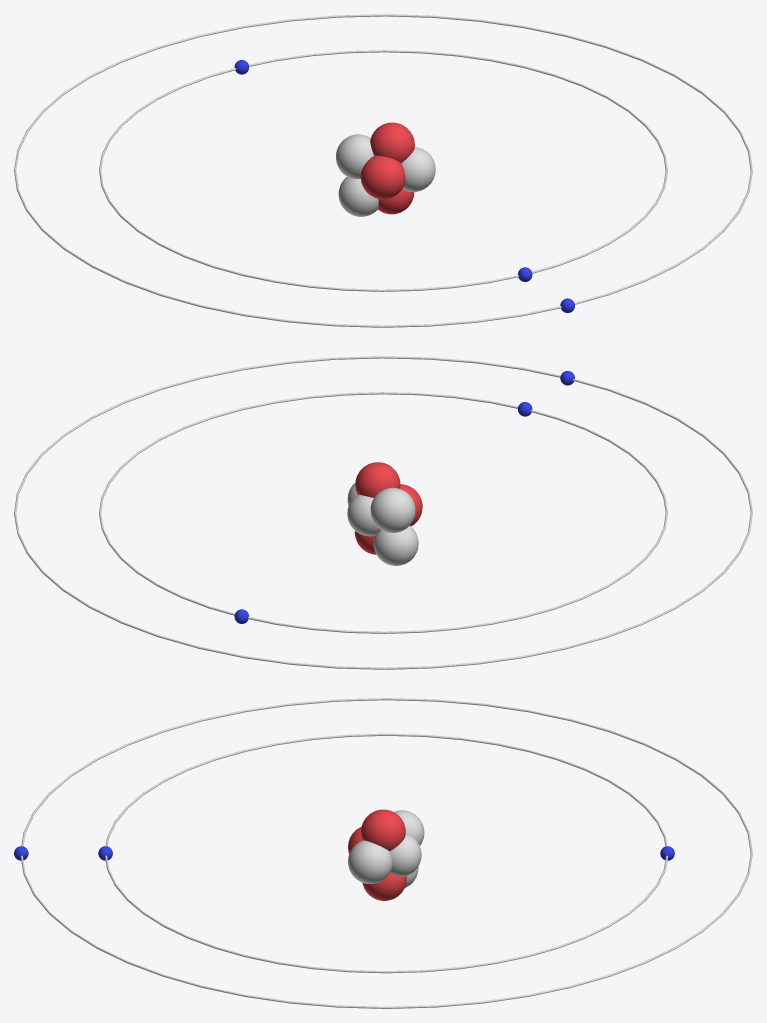
The model's file is Lithium.glb.
3 renders of one model, top to bottom at view 1: azimuth 30°, elevation 25°; view 2: azimuth 150°, elevation 25°; view 3: azimuth 270°, elevation 25°, orthographic.
Visible parts, largest first — view 1: L-Schale, K-Schale, Proton 1, Proton 2, Neutron 2, Neutron 4, Neutron 3, Proton 3; view 2: L-Schale, K-Schale, Neutron 2, Neutron 3, Proton 2, Neutron 1; view 3: L-Schale, K-Schale, Neutron 4, Proton 2, Neutron 1, Proton 3, Neutron 2.
Boxes of the visible parts, x1=… form: L-Schale: x1=14, y1=14, x2=752, y2=327; K-Schale: x1=99, y1=50, x2=667, y2=291; Proton 1: x1=360, y1=155, x2=405, y2=199; Proton 2: x1=370, y1=122, x2=414, y2=162; Neutron 2: x1=336, y1=134, x2=373, y2=178; Neutron 4: x1=401, y1=147, x2=435, y2=191; Neutron 3: x1=338, y1=176, x2=378, y2=216; Proton 3: x1=378, y1=189, x2=414, y2=214; L-Schale: x1=14, y1=356, x2=752, y2=669; K-Schale: x1=99, y1=392, x2=667, y2=633; Neutron 2: x1=370, y1=487, x2=415, y2=532; Neutron 3: x1=373, y1=525, x2=418, y2=565; Proton 2: x1=355, y1=462, x2=400, y2=497; Neutron 1: x1=347, y1=494, x2=381, y2=536; L-Schale: x1=20, y1=698, x2=752, y2=1008; K-Schale: x1=105, y1=733, x2=668, y2=973; Neutron 4: x1=348, y1=840, x2=392, y2=883; Proton 2: x1=361, y1=809, x2=405, y2=851; Neutron 1: x1=389, y1=833, x2=421, y2=876; Proton 3: x1=362, y1=873, x2=406, y2=900; Neutron 2: x1=394, y1=810, x2=424, y2=845.
Bounding box in the file's own units: 13.04 × 1.73 × 13.15.
